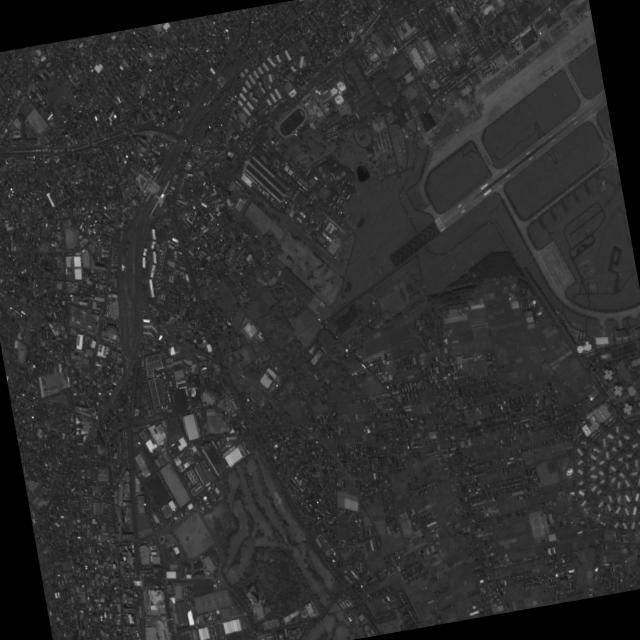plane: (537, 67, 547, 79), (559, 17, 569, 28), (551, 24, 561, 35), (572, 41, 582, 52), (570, 10, 580, 20), (545, 62, 554, 73), (580, 35, 589, 46), (565, 47, 574, 57), (587, 30, 595, 40), (454, 128, 458, 132)
